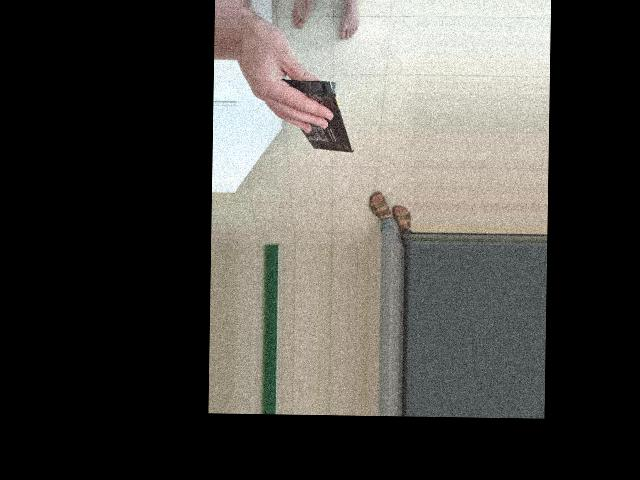chocolate: (322, 99, 425, 190)
